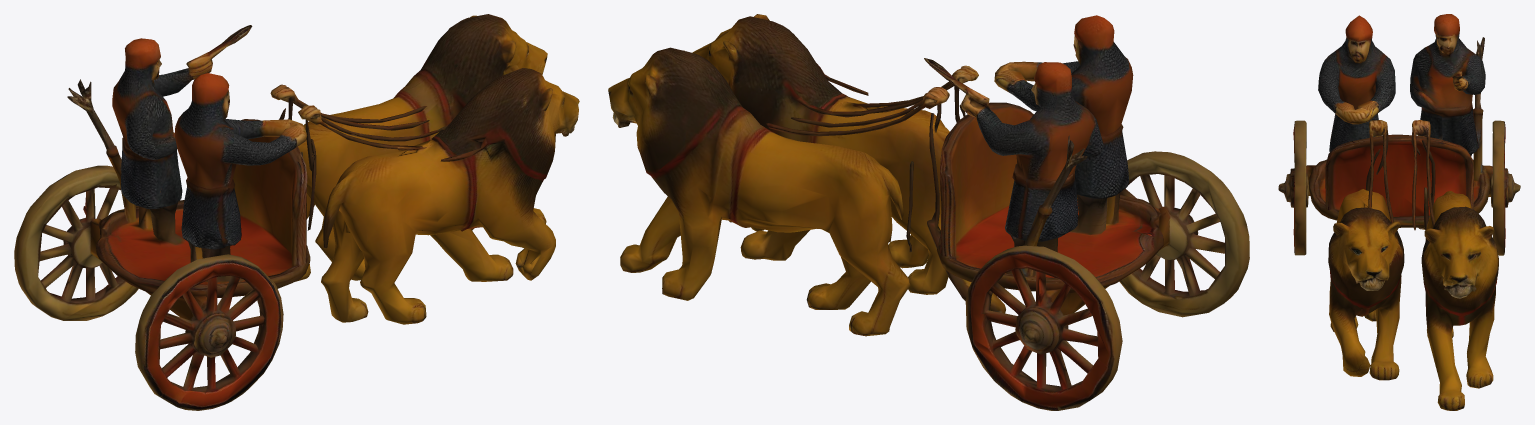
3 renders of one model, left to right at view 1: azimuth 30°, elevation 25°; view 2: azimuth 150°, elevation 25°; view 3: azimuth 270°, elevation 25°, orthographic. The views are drawn at different scales.
Visible parts, largest first — view 1: tripo_node_c992bb62-dac9-482f-81bb-c1349d095f5f; view 2: tripo_node_c992bb62-dac9-482f-81bb-c1349d095f5f; view 3: tripo_node_c992bb62-dac9-482f-81bb-c1349d095f5f.
Part boxes in pixels (<box>): tripo_node_c992bb62-dac9-482f-81bb-c1349d095f5f: <box>14,14,579,410</box>; tripo_node_c992bb62-dac9-482f-81bb-c1349d095f5f: <box>608,14,1249,410</box>; tripo_node_c992bb62-dac9-482f-81bb-c1349d095f5f: <box>1278,14,1520,410</box>.
Size of the model in its own units: 0.9988 by 0.5641 by 0.5041.
Materials: 1 (1 with a texture image).
